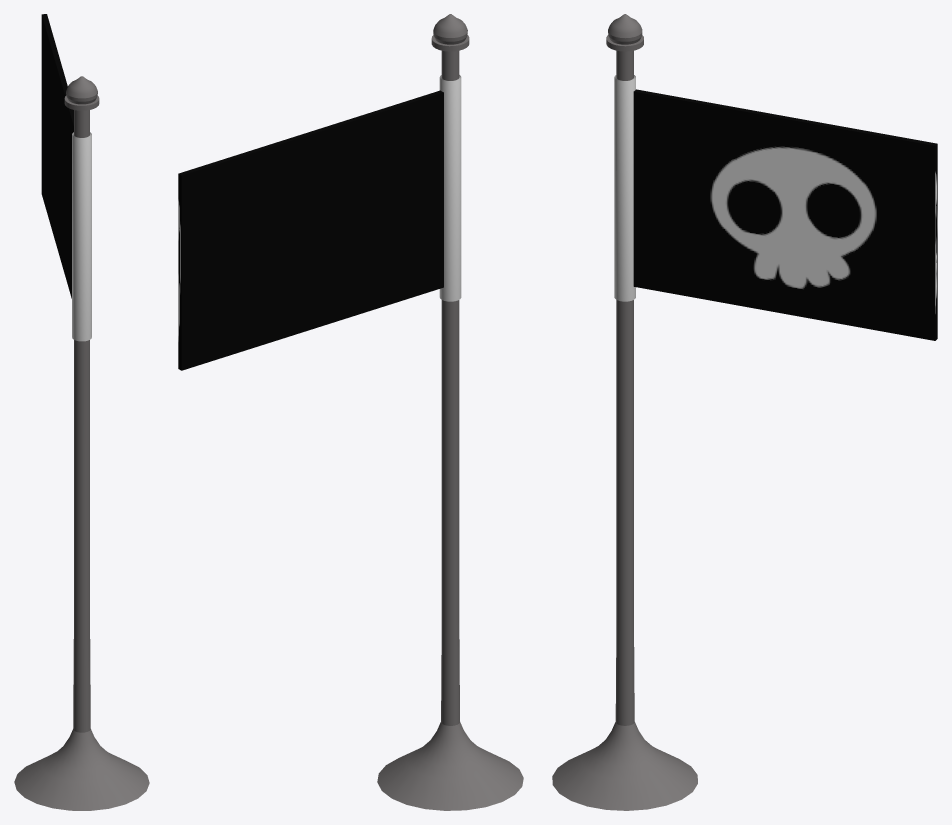
Rendered from flagstock1.fbx.
The picture shows the model from 3 angles, left to right: view 1: azimuth 30°, elevation 25°; view 2: azimuth 150°, elevation 25°; view 3: azimuth 270°, elevation 25°; orthographic projection. The views are drawn at different scales.
Visible parts, largest first — view 1: Cylinder, Cube, Cylinder.001; view 2: Cube, Cylinder, Cylinder.001; view 3: Cube, Cylinder, Cylinder.001.
Part boxes in pixels (bbox=[...]): Cylinder: bbox=[14, 76, 149, 810]; Cube: bbox=[41, 14, 73, 298]; Cylinder.001: bbox=[72, 132, 91, 341]; Cube: bbox=[178, 90, 443, 370]; Cylinder: bbox=[377, 14, 523, 810]; Cylinder.001: bbox=[439, 75, 461, 301]; Cube: bbox=[633, 89, 937, 340]; Cylinder: bbox=[552, 14, 697, 810]; Cylinder.001: bbox=[614, 75, 635, 301].
Size of the model in its own units: 539 by 2180 by 995.
3 materials, 1 textured.
